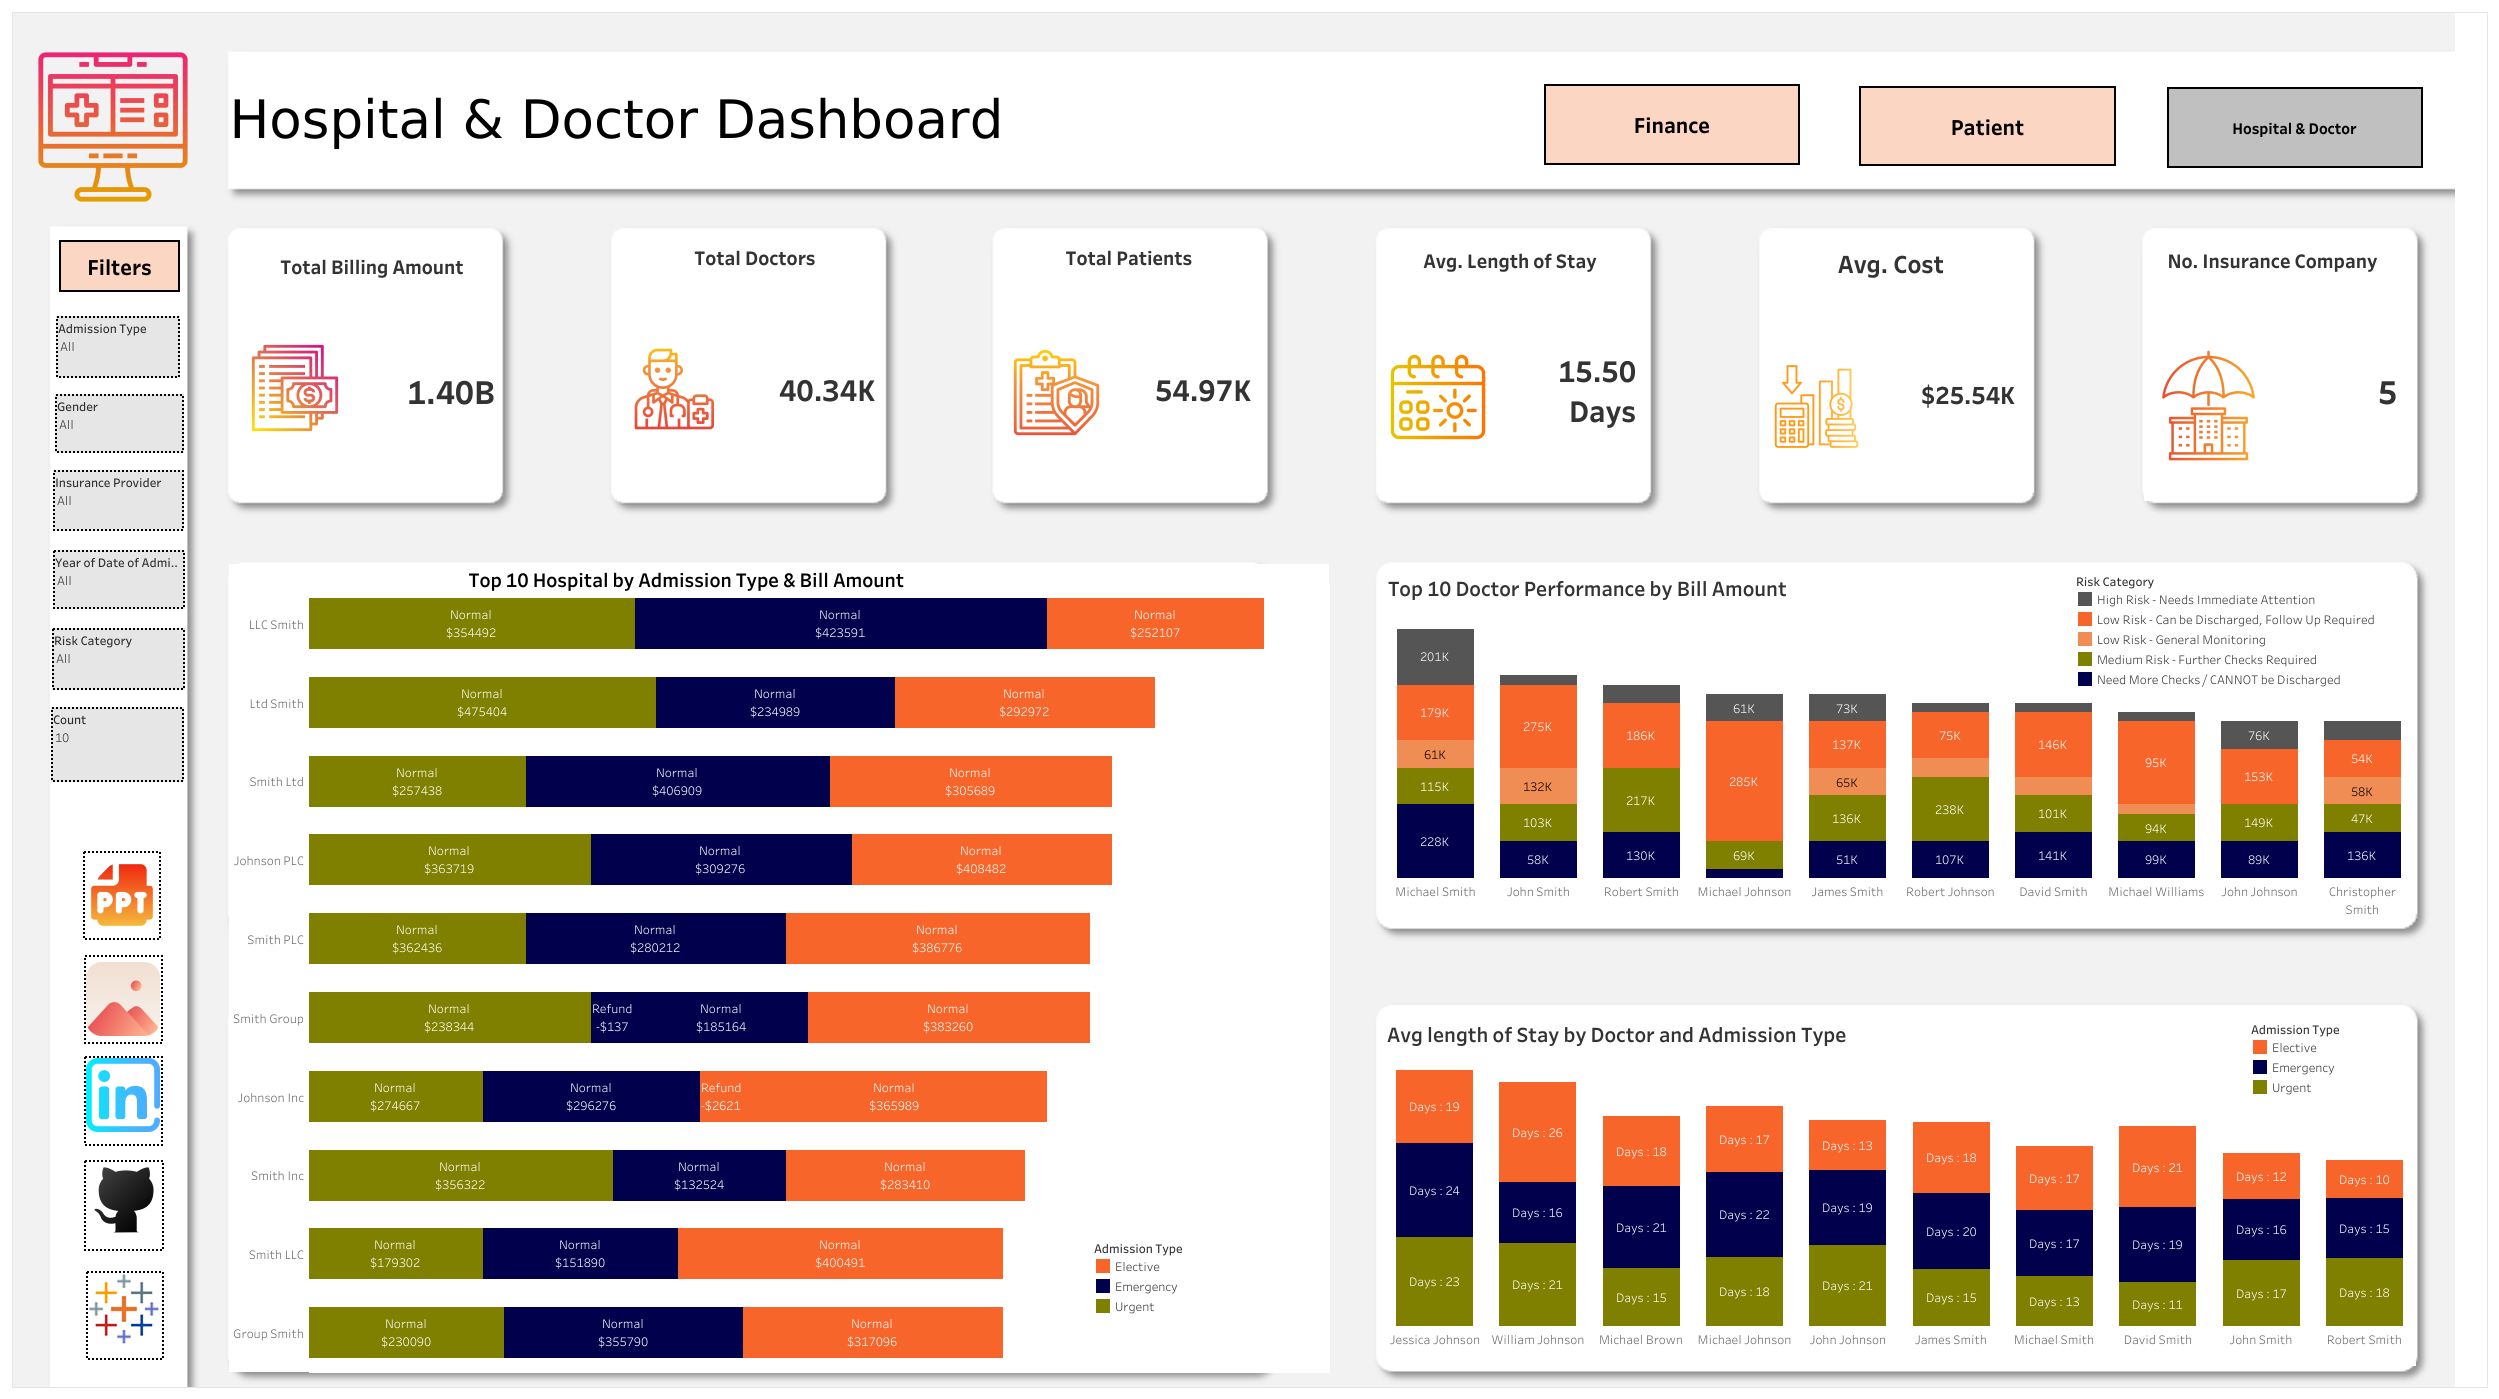

What the dashboard file says about the page in this screenshot:
{"tool":"tableau","page":{"name":"Hospital & Doctor Dashboard","canvas":[2500,1400],"ordinal":1},"visuals":[{"type":"image","param":"Image/Presentation_Hospital.jpg","box":[8,8,2484,1384]},{"type":"image","param":"Image/online-appointment_7265730.png","box":[36,49.8,186,154]},{"type":"text","box":[227,52,789,135]},{"type":"dashboard-object","box":[2077,53,342,121]},{"type":"dashboard-object","box":[1331,55,323,121]},{"type":"dashboard-object","box":[1696,55,340,121]},{"type":"worksheet","title":"Avg. Cost","mark":"Automatic","box":[1795,233,283,204]},{"type":"worksheet","title":"No. Insurance Company","mark":"Automatic","box":[2141,233,285,206]},{"type":"worksheet","title":"Total Billing Amount","mark":"Automatic","box":[393,235,292,204]},{"type":"worksheet","title":"Avg. Length of Stay","mark":"Automatic","box":[1447,235,284,204]},{"type":"worksheet","title":"Total Patients","mark":"Automatic","box":[1101,236,283,203]},{"type":"worksheet","title":"Total Doctors","mark":"Automatic","box":[752,237,287,199]},{"type":"text","box":[55,258,280,83]},{"type":"image","param":"Image/insurance-company_11184030.png","box":[2147,298,110,104]},{"type":"image","param":"Image/calendar_16964228.png","box":[1457,299,108,144]},{"type":"image","param":"Image/money_3379417.png","box":[404,304,92,127]},{"type":"image","param":"Image/doctor_3671120.png","box":[765,307,86,132]},{"type":"image","param":"Image/clipboard_3576805.png","box":[1112,308,91,128]},{"type":"image","param":"Image/budget_14431365.png","box":[1810,314,89,112]},{"type":"filter","title":"Avg. Cost","param":"[federated.1or61521bt9pdb13ihx3r1wnd5m3].[none:Admission_Type:nk]","box":[56,402,285,70]},{"type":"worksheet","title":"Top 10 Doctor Performance by Bill Amount","mark":"Automatic","rows":["Healthcare_Dataset_Tableau.csv_831D8558E09F4903A49EC1E7E6A11"],"cols":["Doctor"],"box":[1494,500,931,403]},{"type":"legend","title":"Top 10 Doctor Performance by Bill Amount","param":"[federated.1or61521bt9pdb13ihx3r1wnd5m3].[none:Risk_Category:nk]","box":[2114,501,334,136]},{"type":"text","box":[377,502,475,44]},{"type":"worksheet","title":"Top 10 Hospital by Admission Type & Bill Amount","mark":"Automatic","rows":["Hospital"],"cols":["Healthcare_Dataset_Tableau.csv_831D8558E09F4903A49EC1E7E6A11"],"box":[366,534,1098,807]},{"type":"filter","title":"Avg. Cost","param":"[federated.1or61521bt9pdb13ihx3r1wnd5m3].[none:Gender:nk]","box":[56,535,286,81]},{"type":"filter","title":"Avg. Cost","param":"[federated.1or61521bt9pdb13ihx3r1wnd5m3].[none:Insurance_Provider:nk]","box":[58,671,281,83]},{"type":"filter","title":"Avg. Cost","param":"[federated.1or61521bt9pdb13ihx3r1wnd5m3].[yr:Date_of_Admission:ok]","box":[57,810,283,79]},{"type":"legend","title":"Avg length of Stay by Doctor and Admission Type","param":"[federated.1or61521bt9pdb13ihx3r1wnd5m3].[none:Admission_Type:nk]","box":[2253,950,166,91]},{"type":"filter","title":"Avg. Cost","param":"[federated.1or61521bt9pdb13ihx3r1wnd5m3].[none:Risk_Category:nk]","box":[53,951,284,82]},{"type":"worksheet","title":"Avg length of Stay by Doctor and Admission Type","mark":"Automatic","rows":["Length_of_Stay"],"cols":["Doctor"],"box":[1493,952,936,394]},{"type":"parameter","param":"[Parameters].[Parameter 1]","box":[58,1076,282,94]},{"type":"dashboard-object","box":[242,1203,76,76]},{"type":"image","param":"Image/download.png","box":[84,1205,76,76]},{"type":"legend","title":"Top 10 Hospital by Admission Type & Bill Amount","param":"[federated.1or61521bt9pdb13ihx3r1wnd5m3].[none:Admission_Type:nk]","box":[1277,1235,167,91]},{"type":"image","param":"Image/github_4926625.png","box":[74,1291,76,76]},{"type":"image","param":"Image/linkedin_1384171.png","box":[243,1294,76,76]}]}

Visuals, with their boxes in screenshot pixels (x1, y1, x2, y2), scaled from the page's 2500x1400 canvas onto the 2499x1399 screenshot:
image: x1=8, y1=8, x2=2491, y2=1391
image: x1=36, y1=50, x2=222, y2=204
text: x1=227, y1=52, x2=1016, y2=187
dashboard-object: x1=2076, y1=53, x2=2418, y2=174
dashboard-object: x1=1330, y1=55, x2=1653, y2=176
dashboard-object: x1=1695, y1=55, x2=2035, y2=176
"Avg. Cost" worksheet: x1=1794, y1=233, x2=2077, y2=437
"No. Insurance Company" worksheet: x1=2140, y1=233, x2=2425, y2=439
"Total Billing Amount" worksheet: x1=393, y1=235, x2=685, y2=439
"Avg. Length of Stay" worksheet: x1=1446, y1=235, x2=1730, y2=439
"Total Patients" worksheet: x1=1101, y1=236, x2=1383, y2=439
"Total Doctors" worksheet: x1=752, y1=237, x2=1039, y2=436
text: x1=55, y1=258, x2=335, y2=341
image: x1=2146, y1=298, x2=2256, y2=402
image: x1=1456, y1=299, x2=1564, y2=443
image: x1=404, y1=304, x2=496, y2=431
image: x1=765, y1=307, x2=851, y2=439
image: x1=1112, y1=308, x2=1203, y2=436
image: x1=1809, y1=314, x2=1898, y2=426
"Avg. Cost" filter: x1=56, y1=402, x2=341, y2=472
"Top 10 Doctor Performance by Bill Amount" worksheet: x1=1493, y1=500, x2=2424, y2=902
"Top 10 Doctor Performance by Bill Amount" legend: x1=2113, y1=501, x2=2447, y2=637
text: x1=377, y1=502, x2=852, y2=546
"Top 10 Hospital by Admission Type & Bill Amount" worksheet: x1=366, y1=534, x2=1463, y2=1340
"Avg. Cost" filter: x1=56, y1=535, x2=342, y2=616
"Avg. Cost" filter: x1=58, y1=671, x2=339, y2=753
"Avg. Cost" filter: x1=57, y1=809, x2=340, y2=888
"Avg length of Stay by Doctor and Admission Type" legend: x1=2252, y1=949, x2=2418, y2=1040
"Avg. Cost" filter: x1=53, y1=950, x2=337, y2=1032
"Avg length of Stay by Doctor and Admission Type" worksheet: x1=1492, y1=951, x2=2428, y2=1345
parameter: x1=58, y1=1075, x2=340, y2=1169
dashboard-object: x1=242, y1=1202, x2=318, y2=1278
image: x1=84, y1=1204, x2=160, y2=1280
"Top 10 Hospital by Admission Type & Bill Amount" legend: x1=1276, y1=1234, x2=1443, y2=1325
image: x1=74, y1=1290, x2=150, y2=1366
image: x1=243, y1=1293, x2=319, y2=1369
